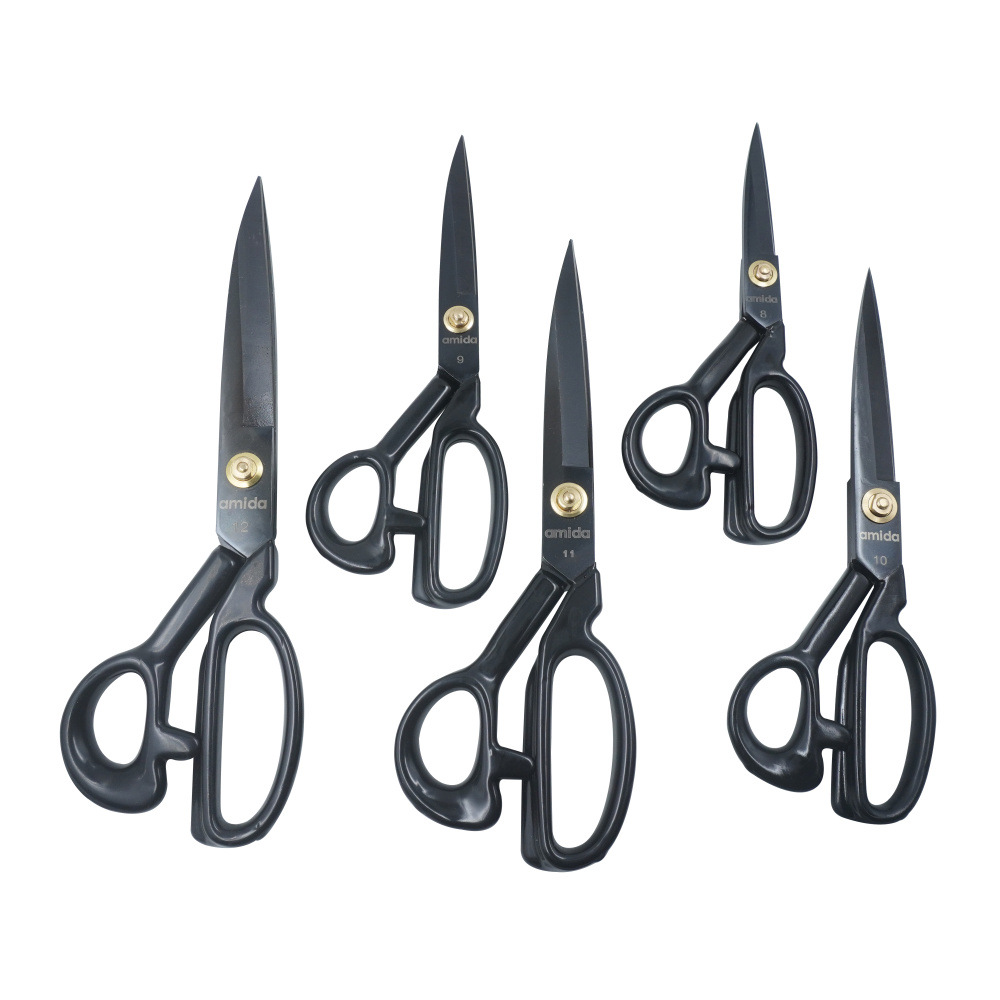scissors: (43, 171, 305, 861), (388, 236, 639, 878), (714, 263, 944, 833), (304, 129, 516, 612), (616, 116, 825, 553)
